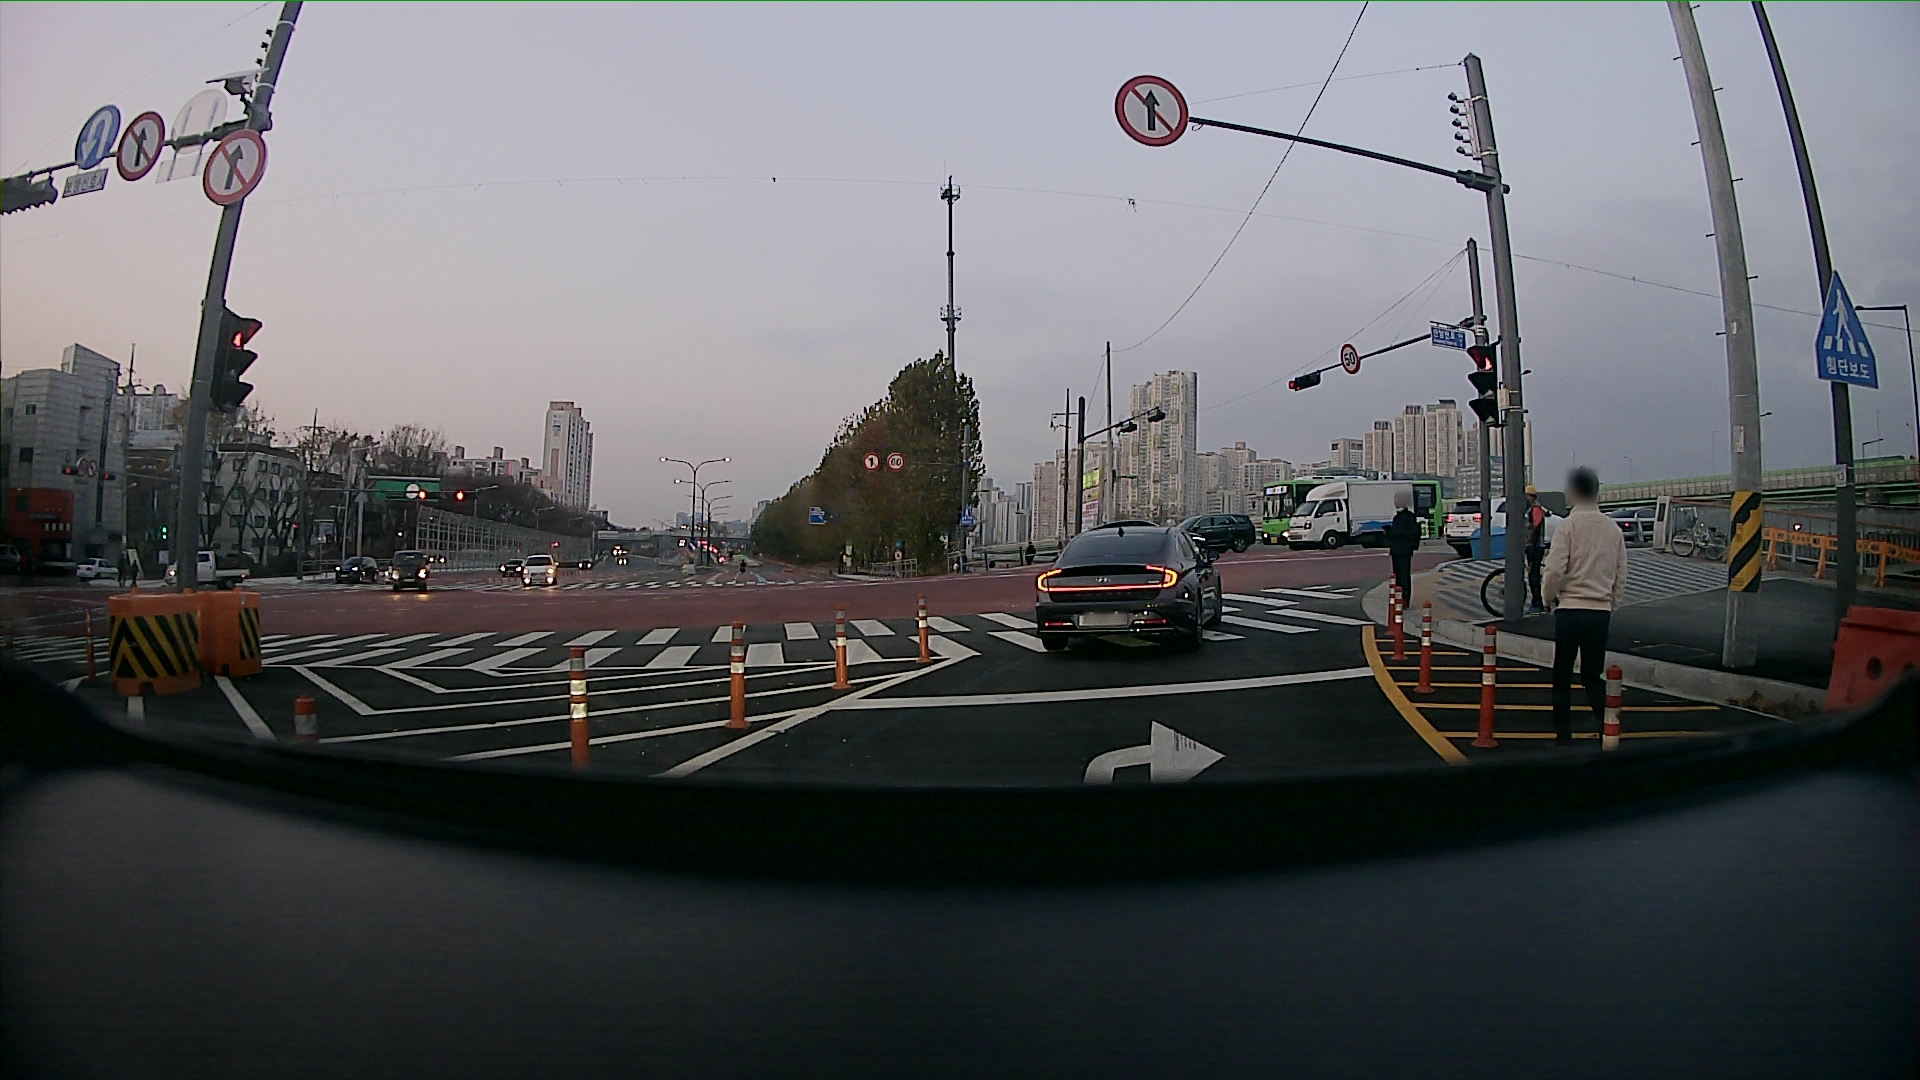trafficLight: (1288, 367, 1317, 392)
trafficLightBar: (1469, 342, 1501, 429)
trafficSignCircle: (1113, 73, 1188, 148), (204, 128, 269, 204), (121, 111, 161, 181), (75, 105, 112, 167), (1340, 342, 1361, 372)
trafficSignTri: (1813, 266, 1876, 386)
